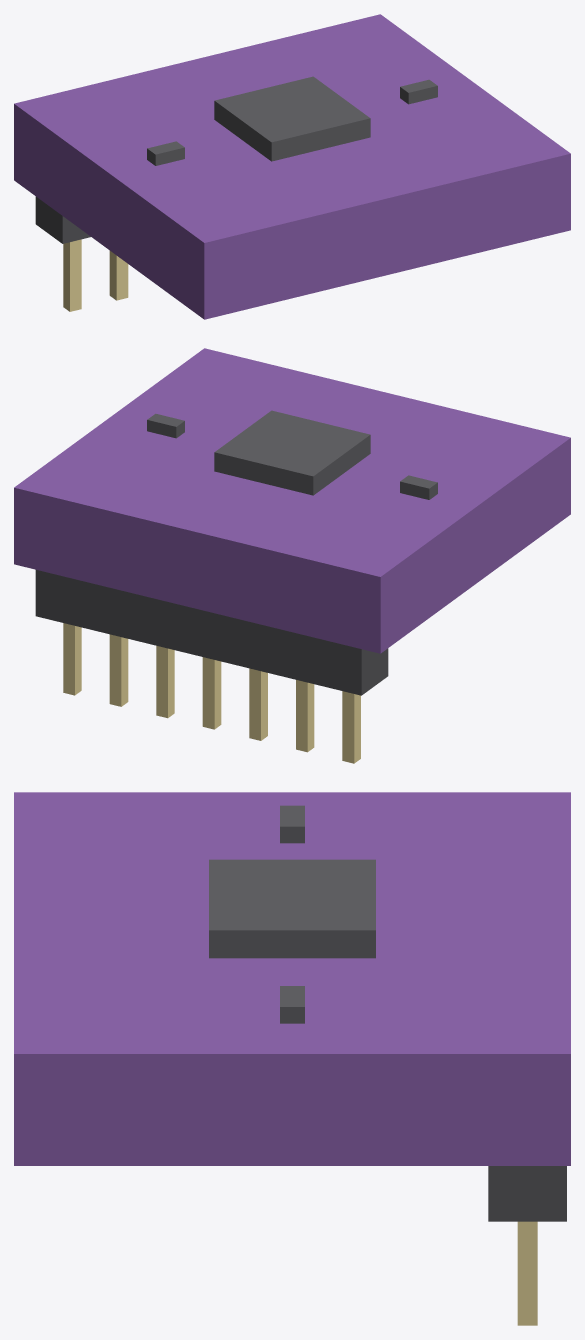
Rendered from tcs34725.glb.
3 views of the same model, one above another, from view 1: azimuth 30°, elevation 25°; view 2: azimuth 150°, elevation 25°; view 3: azimuth 270°, elevation 25° (orthographic). The views are drawn at different scales.
Visible parts, largest first — view 1: tcs34725-pcb, tcs34725-ic, tcs34725-pins, tcs34725-plastic; view 2: tcs34725-pcb, tcs34725-plastic, tcs34725-ic, tcs34725-pins; view 3: tcs34725-pcb, tcs34725-ic, tcs34725-plastic, tcs34725-pins.
Boxes of the visible parts, x1,y1,x2,y2 form: tcs34725-pcb: (14,14,570,319); tcs34725-ic: (147,76,437,165); tcs34725-pins: (63,239,128,311); tcs34725-plastic: (35,196,90,243); tcs34725-pcb: (14,348,570,653); tcs34725-plastic: (35,570,388,695); tcs34725-ic: (147,410,437,499); tcs34725-pins: (63,623,360,763); tcs34725-pcb: (14,792,570,1165); tcs34725-ic: (209,805,375,1023); tcs34725-plastic: (488,1166,566,1221); tcs34725-pins: (517,1221,537,1325).
Size of the model in its own units: 0.02 by 0.0116 by 0.018.
